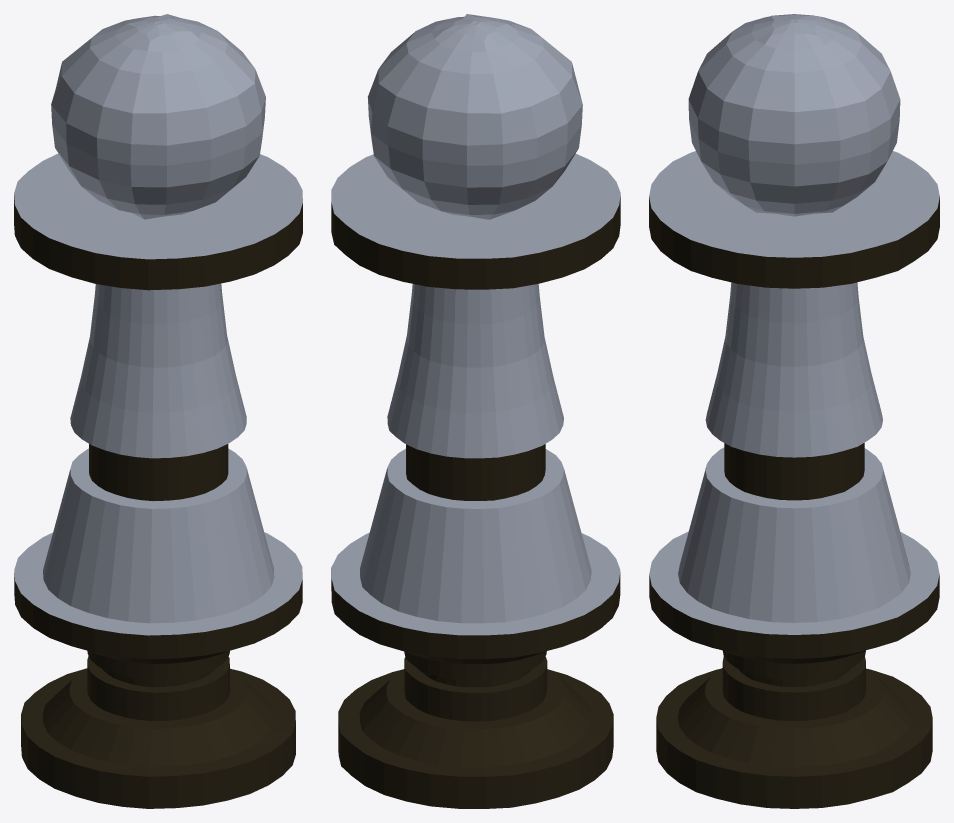
Rendered from metal_p_w.glb.
3 renders of one model, left to right at view 1: azimuth 30°, elevation 25°; view 2: azimuth 150°, elevation 25°; view 3: azimuth 270°, elevation 25°, orthographic.
Parts seen in each view (by area): view 1: p1, p0; view 2: p1, p0; view 3: p1, p0.
Boxes of the visible parts, bbox=[...] form: p1: bbox=[14, 14, 302, 635]; p0: bbox=[14, 195, 302, 808]; p1: bbox=[331, 14, 620, 635]; p0: bbox=[331, 195, 620, 808]; p1: bbox=[649, 14, 939, 634]; p0: bbox=[649, 197, 939, 808].
Size of the model in its own units: 0.3252 by 0.9 by 0.3252.
